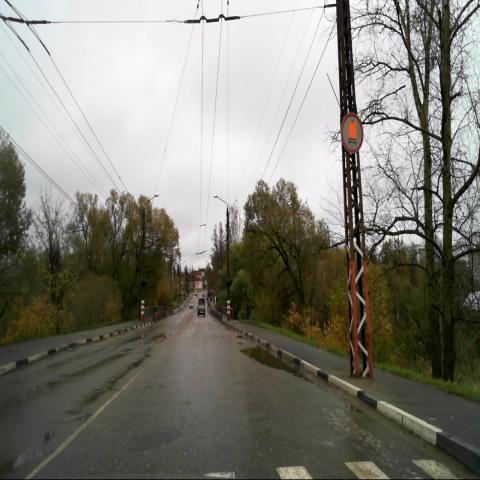3_32: (339, 111, 364, 154)
